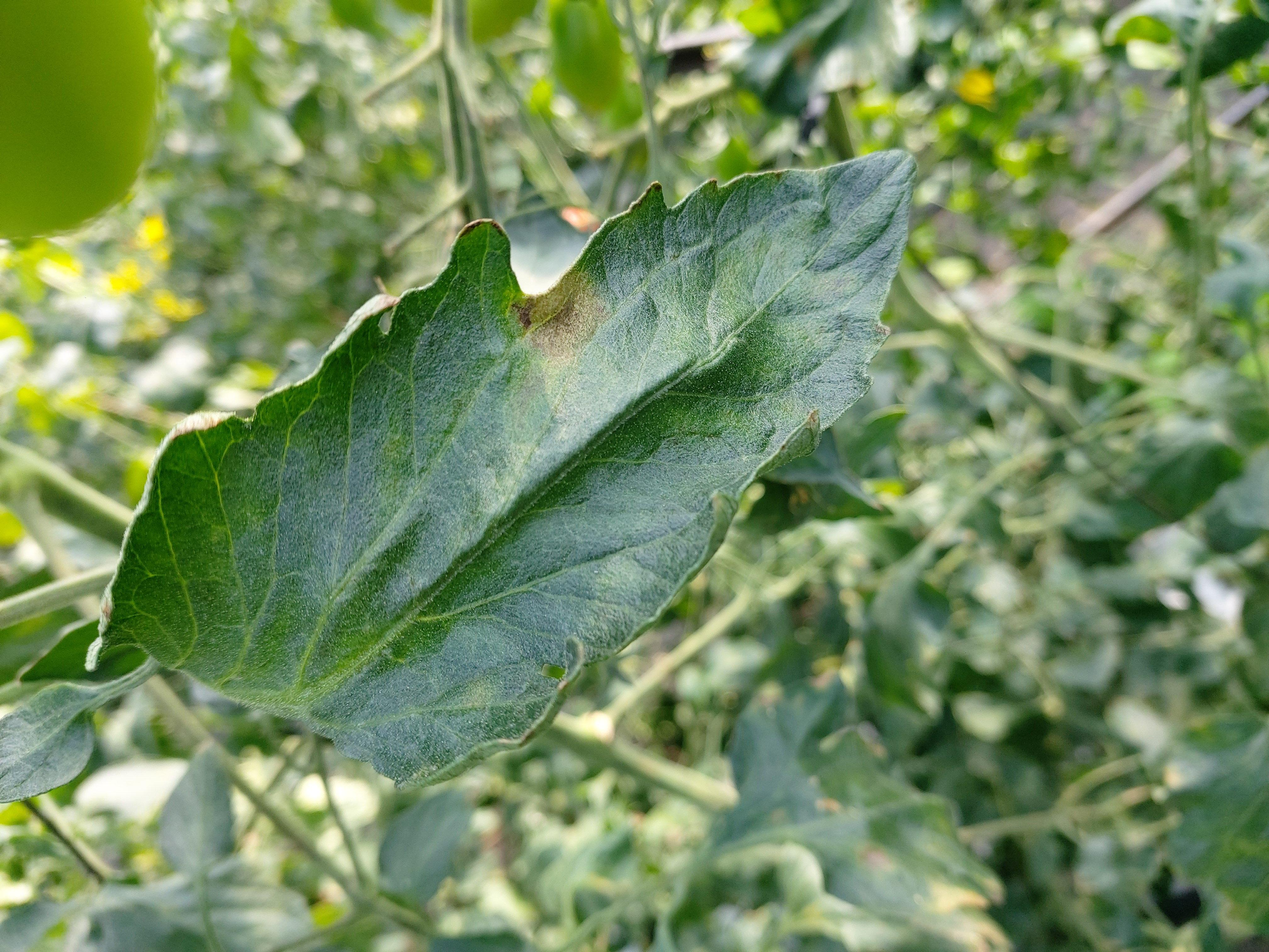Leaf Mold: (87, 140, 916, 790)
